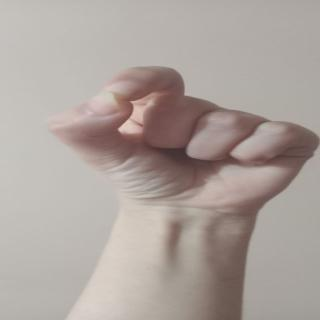FAA: (61, 65, 320, 187)
